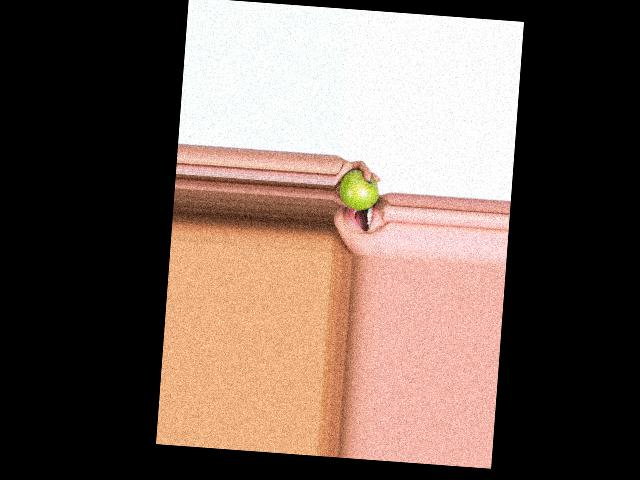apple: (338, 167, 381, 213)
